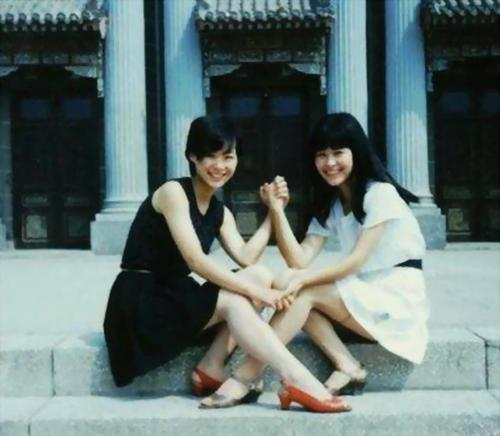no_mask: (181, 115, 239, 191), (308, 115, 366, 191)
